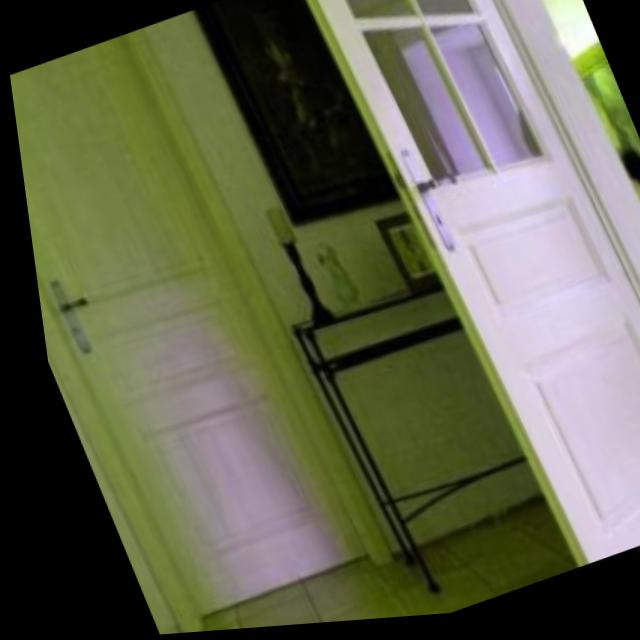door_handle: (394, 155, 460, 209), (32, 285, 87, 321)
